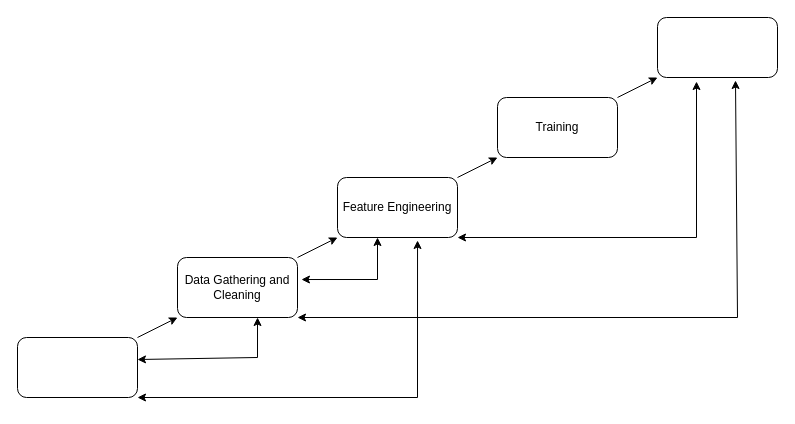
Some shapes in this 795 by 424 pixel diagram are drawn without their labels. Each missing label, with the centre of its shape:
"Evaluation" belongs at (x=717, y=47).
"Goal and Objective" belongs at (x=77, y=367).
